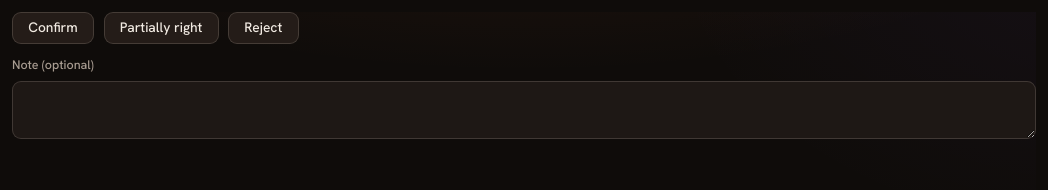
Test: VerdictControls › reverts and shows an error when submission fails
Click the button "Reject": (263, 28) [228, 12, 298, 44]
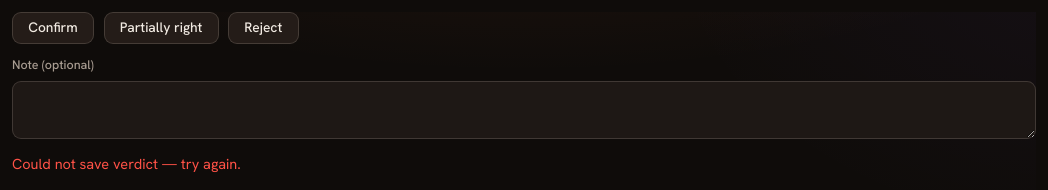
Now the message shows "Could not save verdict", box [12, 154, 241, 173]
